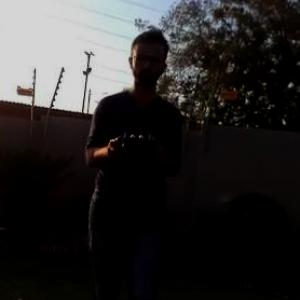follow: (80, 19, 190, 299)
